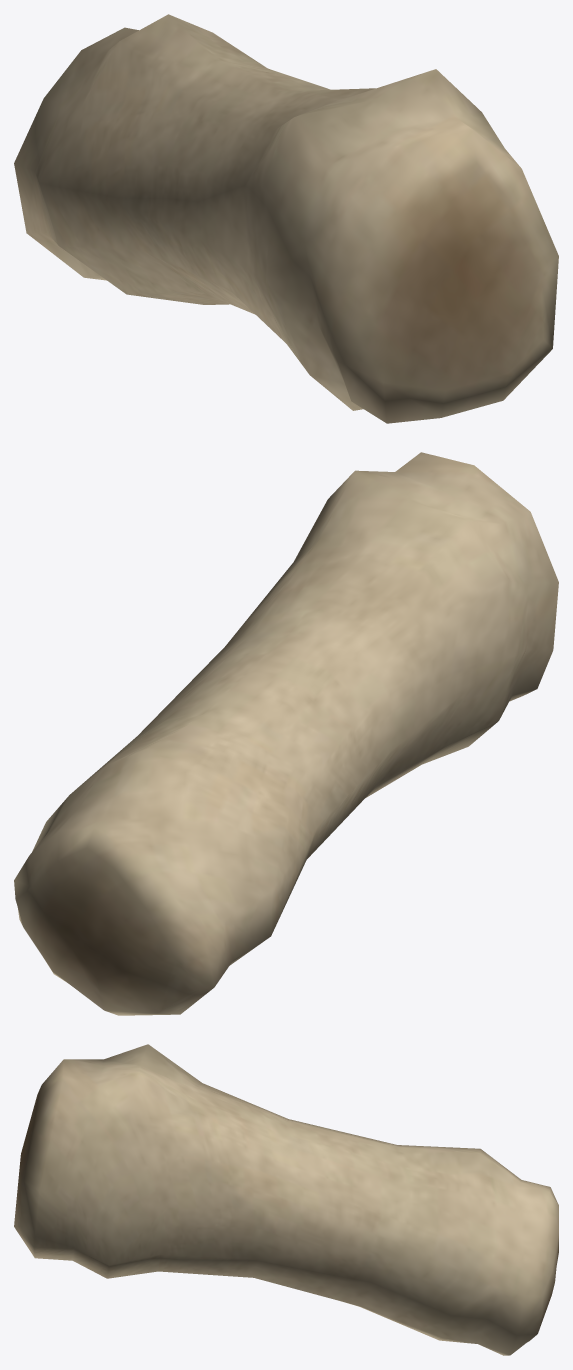
File: Caudal_Vertebrae9.glb
3 renders of one model, top to bottom at view 1: azimuth 30°, elevation 25°; view 2: azimuth 150°, elevation 25°; view 3: azimuth 270°, elevation 25°, orthographic. The views are drawn at different scales.
Visible parts, largest first — view 1: Caudal_Vertebrae_28:Group43710; view 2: Caudal_Vertebrae_28:Group43710; view 3: Caudal_Vertebrae_28:Group43710.
Boxes of the visible parts, bbox=[...] form: Caudal_Vertebrae_28:Group43710: bbox=[14, 14, 558, 423]; Caudal_Vertebrae_28:Group43710: bbox=[14, 452, 558, 1015]; Caudal_Vertebrae_28:Group43710: bbox=[14, 1044, 558, 1355].
Size of the model in its own units: 8.02 by 11.26 by 19.72.
Materials: 1 (1 with a texture image).
